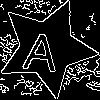A: (22, 23, 62, 73)
